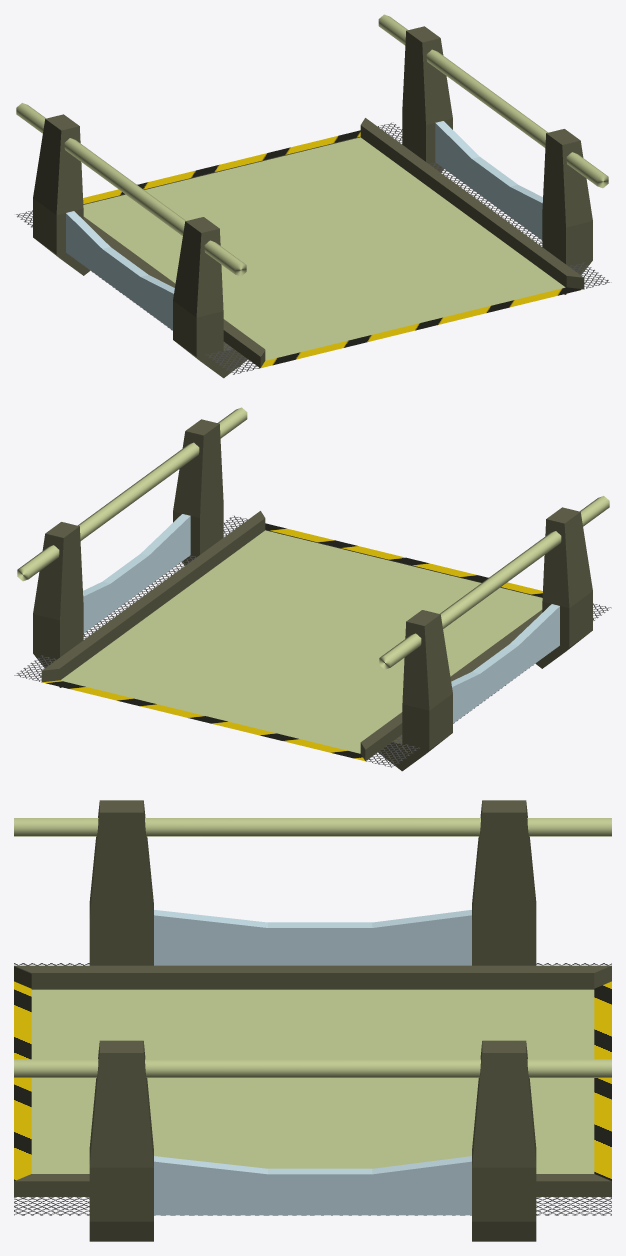
File: Walkway.fbx
3 renders of one model, top to bottom at view 1: azimuth 30°, elevation 25°; view 2: azimuth 150°, elevation 25°; view 3: azimuth 270°, elevation 25°, orthographic. The views are drawn at different scales.
Parts seen in each view (by area): view 1: Floor, Pivot 2, Pivot 4, Pivot 1, Pivot 3, Pivot Wall 3 4, Pivot Wall 1 2, Pivot Union 1 2, Pivot Union 3 4; view 2: Floor, Pivot 1, Pivot 3, Pivot 2, Pivot 4, Pivot Wall 3 4, Pivot Wall 1 2, Pivot Union 1 2, Pivot Union 3 4; view 3: Floor, Pivot Wall 3 4, Pivot Wall 1 2, Pivot 3, Pivot 4, Pivot 1, Pivot 2, Pivot Union 3 4, Pivot Union 1 2.
Part boxes in pixels (<box>): Floor: <box>16,118,611,374</box>; Pivot 2: <box>173,217,247,378</box>; Pivot 4: <box>542,129,592,294</box>; Pivot 1: <box>33,114,90,275</box>; Pivot 3: <box>402,26,452,172</box>; Pivot Wall 3 4: <box>435,121,542,239</box>; Pivot Wall 1 2: <box>66,211,174,330</box>; Pivot Union 1 2: <box>16,103,246,276</box>; Pivot Union 3 4: <box>378,14,608,188</box>; Floor: <box>14,511,611,767</box>; Pivot 1: <box>378,610,452,771</box>; Pivot 3: <box>33,522,83,687</box>; Pivot 2: <box>535,507,592,668</box>; Pivot 4: <box>173,419,223,565</box>; Pivot Wall 3 4: <box>83,514,190,632</box>; Pivot Wall 1 2: <box>451,604,559,723</box>; Pivot Union 1 2: <box>379,496,609,669</box>; Pivot Union 3 4: <box>17,407,247,581</box>; Floor: <box>14,963,611,1215</box>; Pivot Wall 3 4: <box>154,1156,471,1215</box>; Pivot Wall 1 2: <box>154,910,471,965</box>; Pivot 3: <box>472,1040,536,1241</box>; Pivot 4: <box>89,1040,153,1241</box>; Pivot 1: <box>472,800,536,965</box>; Pivot 2: <box>89,800,153,965</box>; Pivot Union 3 4: <box>14,1059,611,1077</box>; Pivot Union 1 2: <box>14,818,611,836</box>.
Bounding box in the file's own units: 4.18 × 1.48 × 4.
